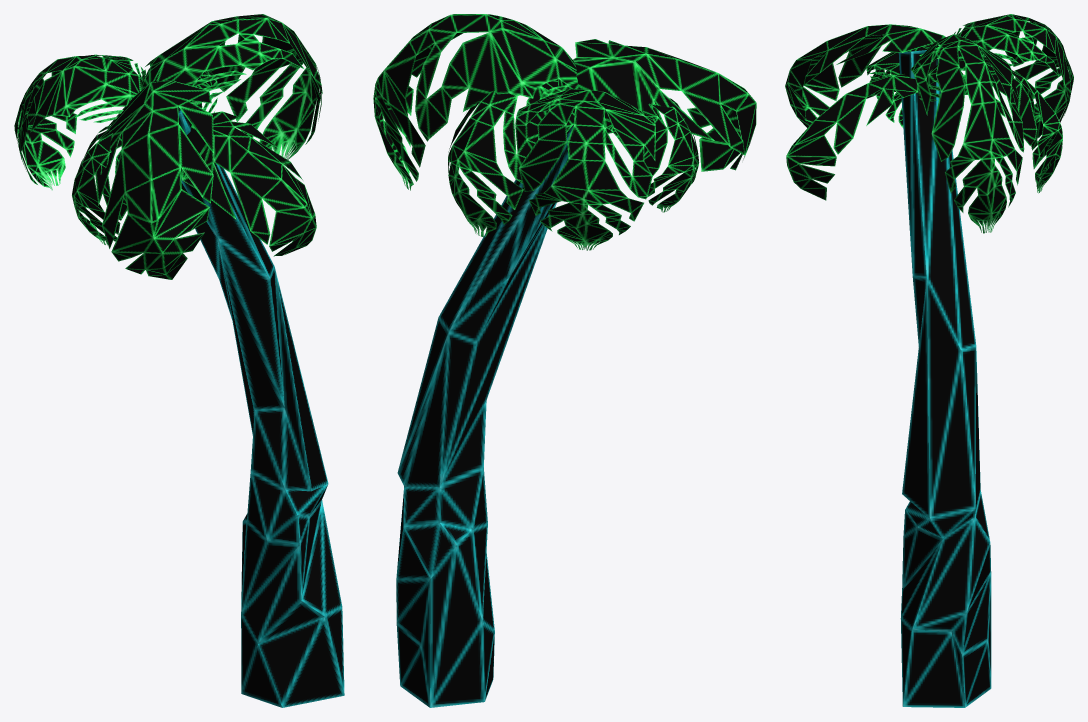
File: palm2.FBX
3 renders of one model, left to right at view 1: azimuth 30°, elevation 25°; view 2: azimuth 150°, elevation 25°; view 3: azimuth 270°, elevation 25°, orthographic. The views are drawn at different scales.
Visible parts, largest first — view 1: palm2; view 2: palm2; view 3: palm2.
Boxes of the visible parts, <box> form: palm2: <box>14,14,344,707</box>; palm2: <box>373,14,756,707</box>; palm2: <box>785,14,1073,707</box>.
Size of the model in its own units: 6.41 by 6.12 by 14.63.
